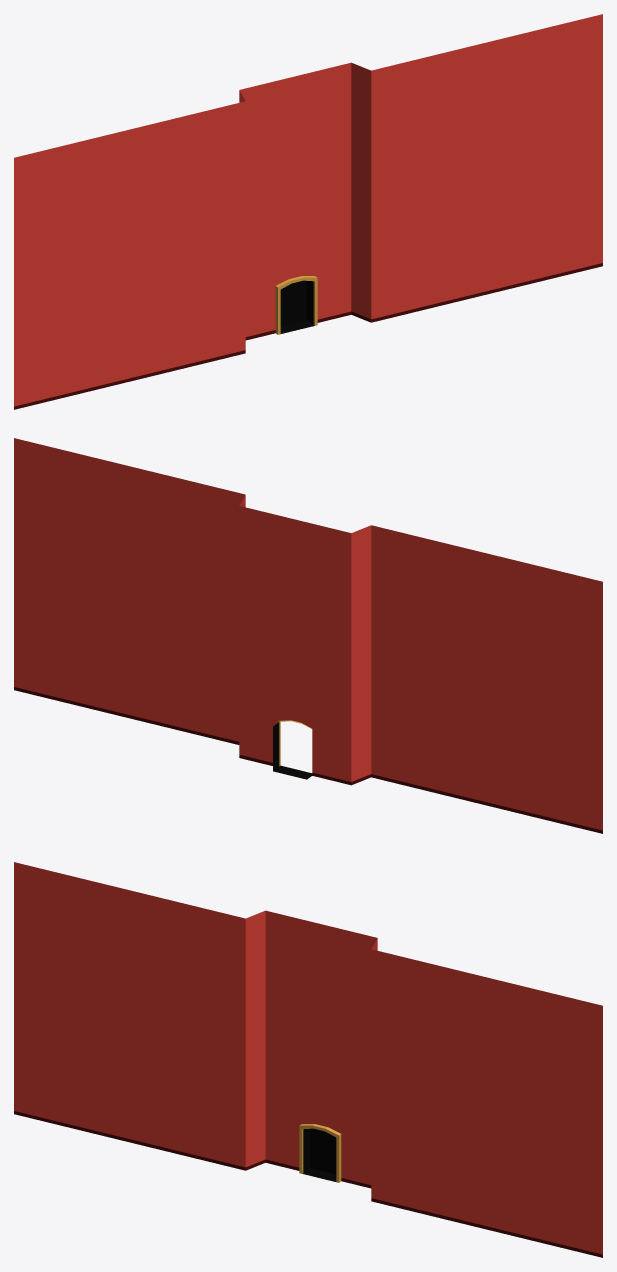
Rendered from wall_2_door_2.fbx.
The picture shows the model from 3 angles, top to bottom: view 1: azimuth 30°, elevation 25°; view 2: azimuth 150°, elevation 25°; view 3: azimuth 330°, elevation 25°; orthographic projection.
Visible parts, largest first — view 1: wall_2, door_2; view 2: wall_2, door_2; view 3: wall_2, door_2.
Part boxes in pixels (x1,y1,x2,y2): wall_2: (14, 14, 602, 409); door_2: (275, 276, 317, 334); wall_2: (14, 438, 602, 833); door_2: (273, 720, 312, 779); wall_2: (14, 862, 602, 1257); door_2: (299, 1124, 341, 1182).
Bounding box in the file's own units: 4611 × 1886 × 252.
